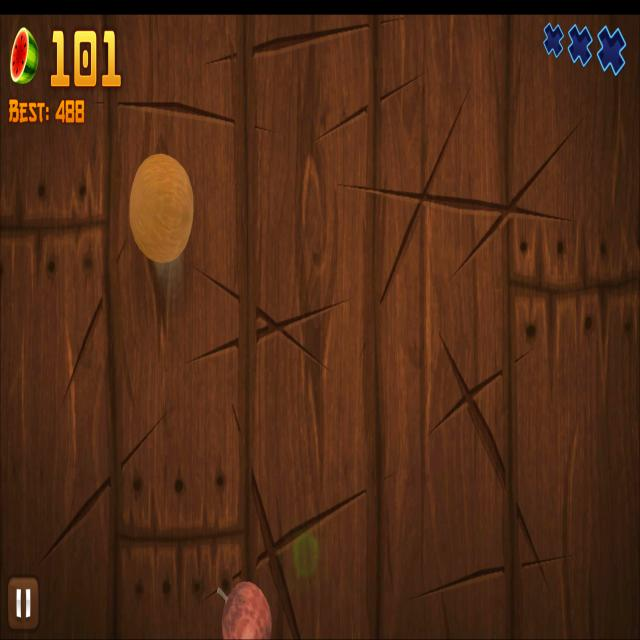fruit: (130, 150, 194, 264), (220, 579, 272, 640)
